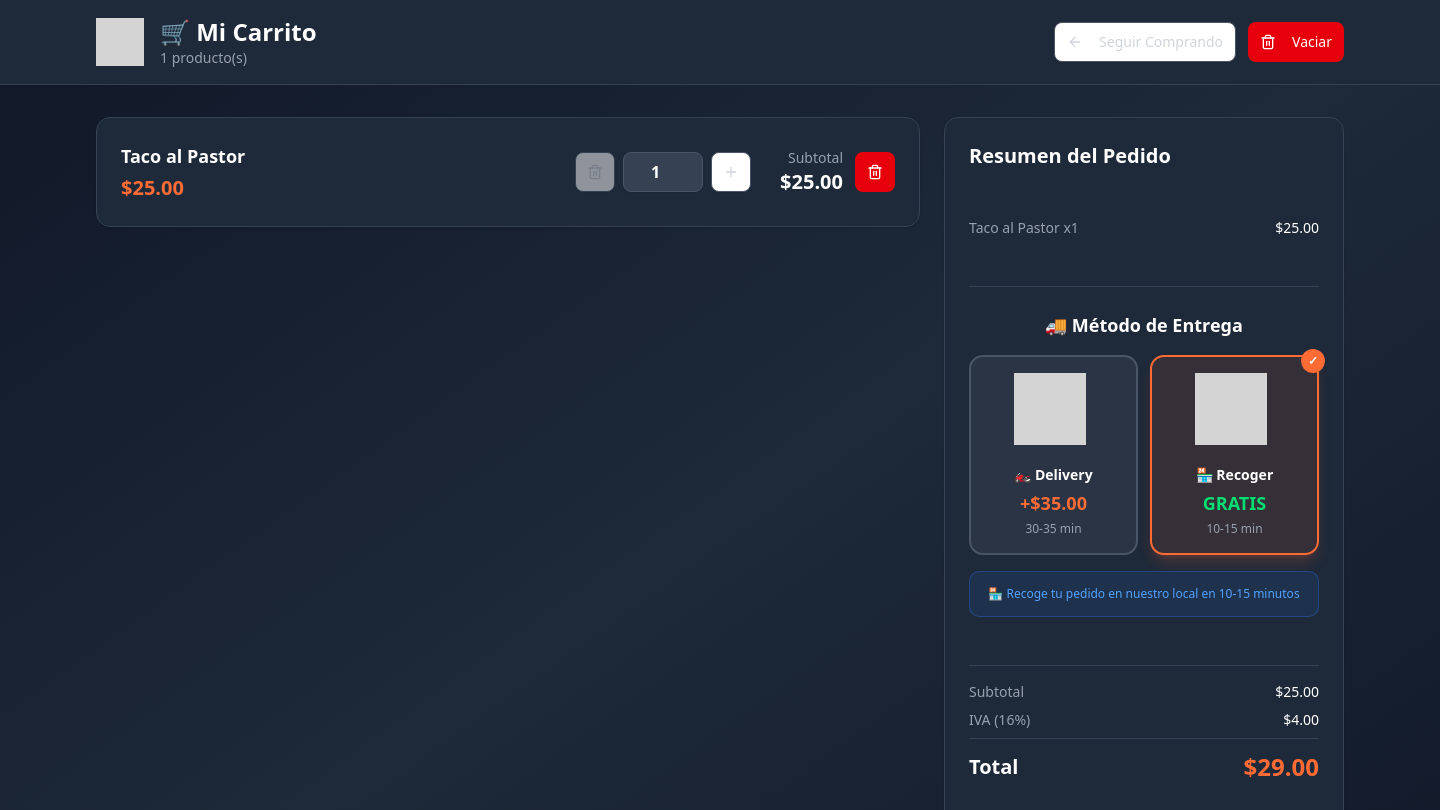
Test: CartPage Component › Delivery Method › should switch to delivery method
Expected: the heading "Taco al Pastor" is shown, [121,144,245,168]
Step 1. Click the button "🏍️ Delivery +$35.00 30-35 min" → (1054, 455), box [969,355,1138,555]
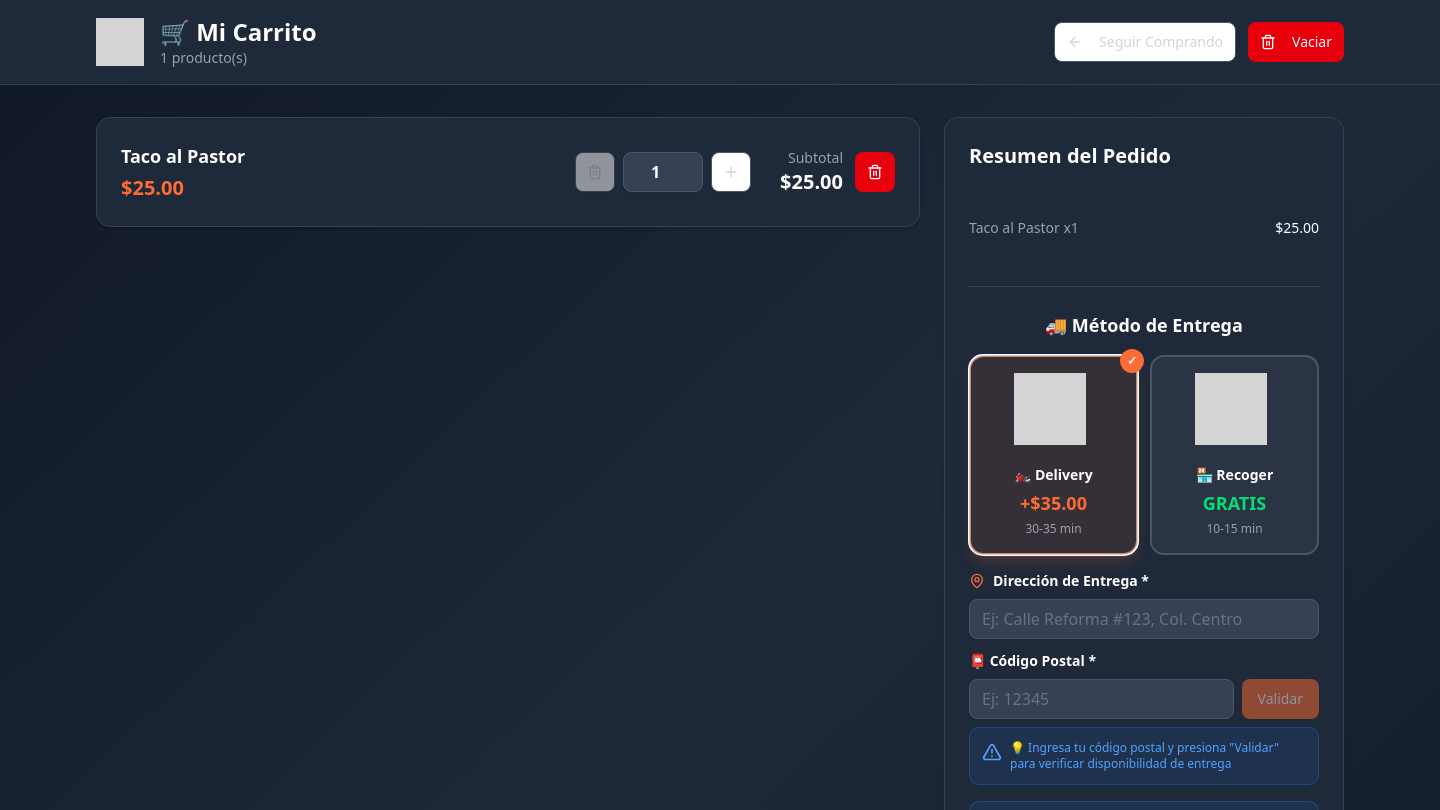
Expected: the button "🏍️ Delivery +$35.00 30-35 min ✓" has class "border-[#FF6B35]", [969,355,1138,555]
